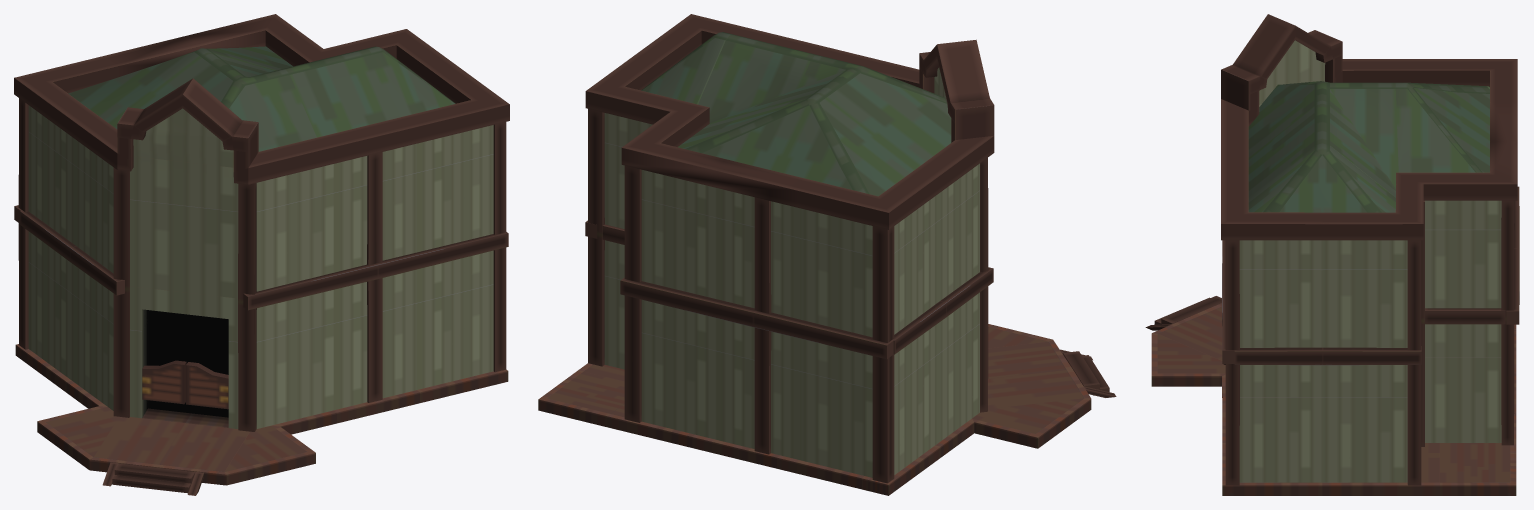
Rendered from house_v2_blank.fbx.
3 renders of one model, left to right at view 1: azimuth 30°, elevation 25°; view 2: azimuth 150°, elevation 25°; view 3: azimuth 270°, elevation 25°, orthographic. The views are drawn at different scales.
Parts seen in each view (by area): view 1: house_v2_blank; view 2: house_v2_blank; view 3: house_v2_blank.
Part boxes in pixels (x1=…): house_v2_blank: x1=14, y1=14, x2=509, y2=495; house_v2_blank: x1=538, y1=14, x2=1116, y2=495; house_v2_blank: x1=1145, y1=14, x2=1519, y2=495.
Bounding box in the file's own units: 996 × 792 × 796.
